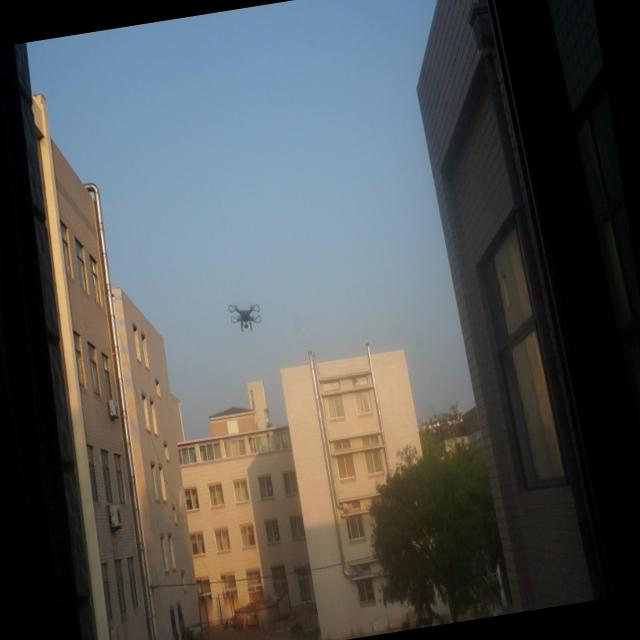drone: (223, 295, 270, 343)
